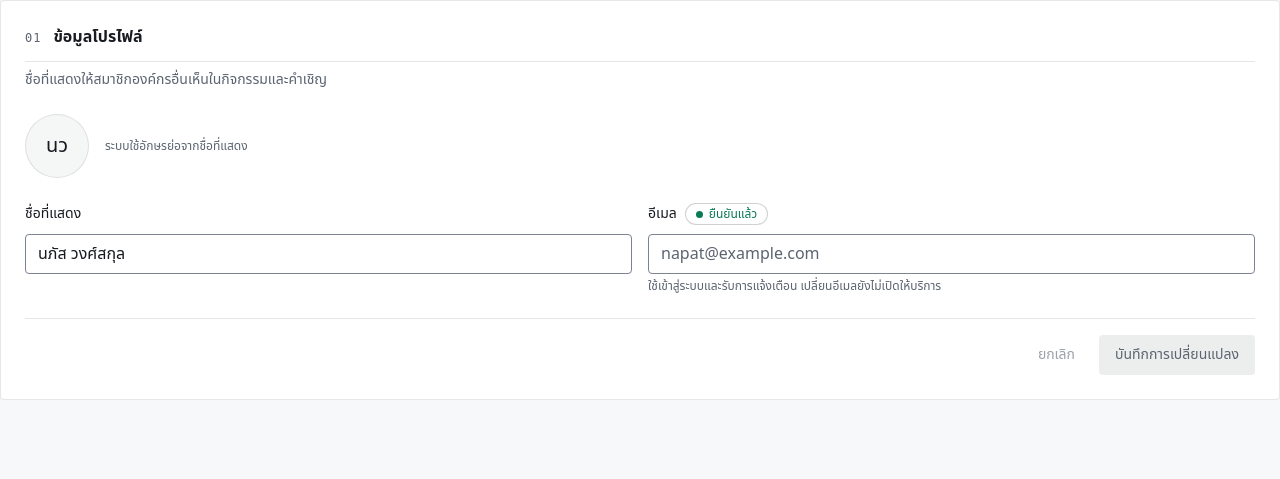
Scenario: ProfilePage › a server error keeps the typed name for a retry
Replace the text in the field with test id "profile-name" with "ชื่อใหม่" at (328, 254), box [25,234,632,274]
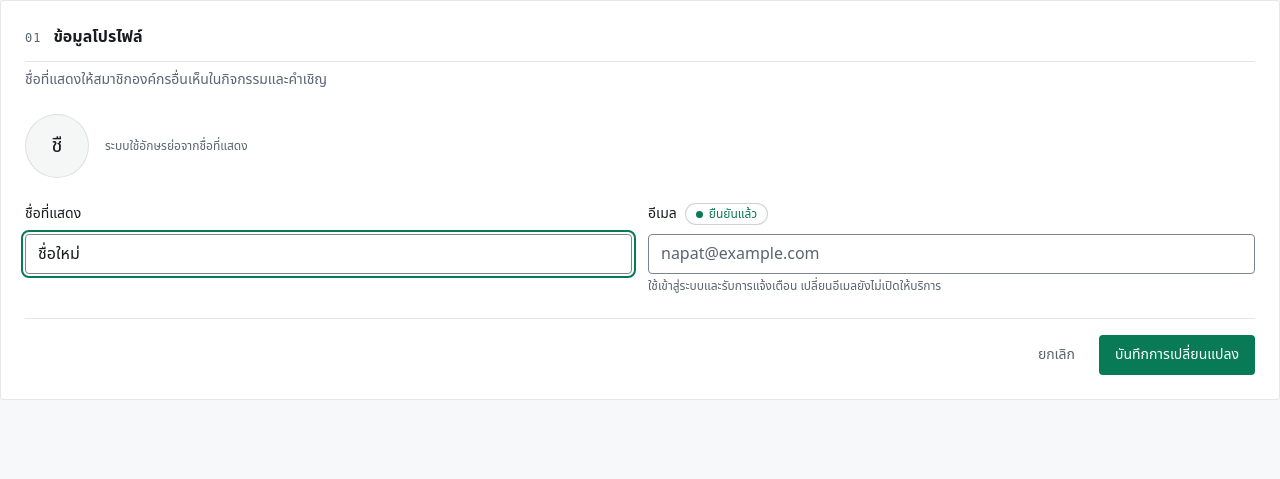
Click the button with test id "profile-save" at (1177, 355), box [1099,335,1255,375]
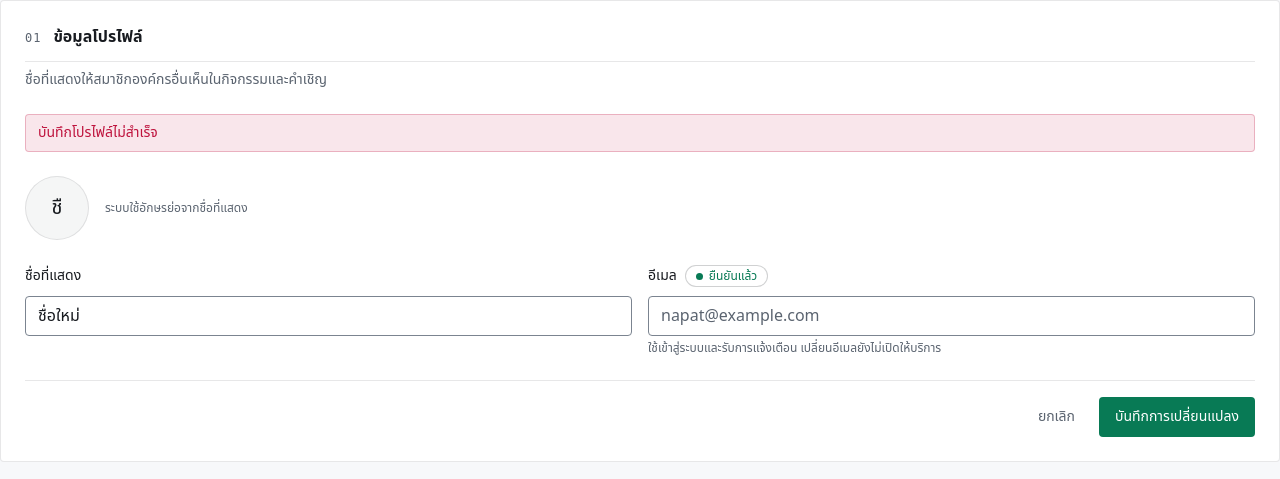
Now the button with test id "profile-save" is enabled, box [1099,397,1255,437]
Now the message "บันทึกโปรไฟล์ไม่สำเร็จ" is shown, box [25,114,1255,152]
